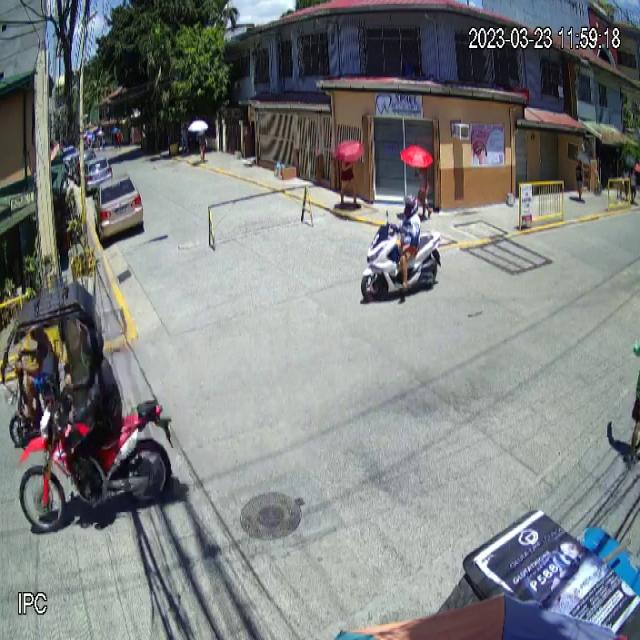Car: (94, 174, 143, 240)
Motorcycle: (19, 389, 175, 532), (360, 210, 441, 299)
